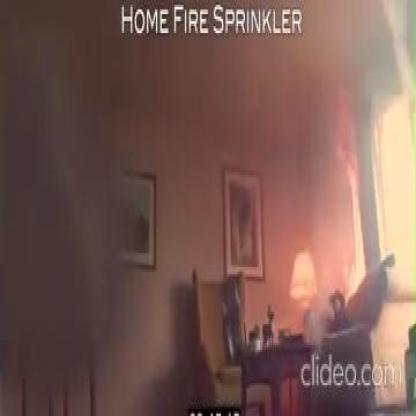fire: (328, 95, 366, 293)
